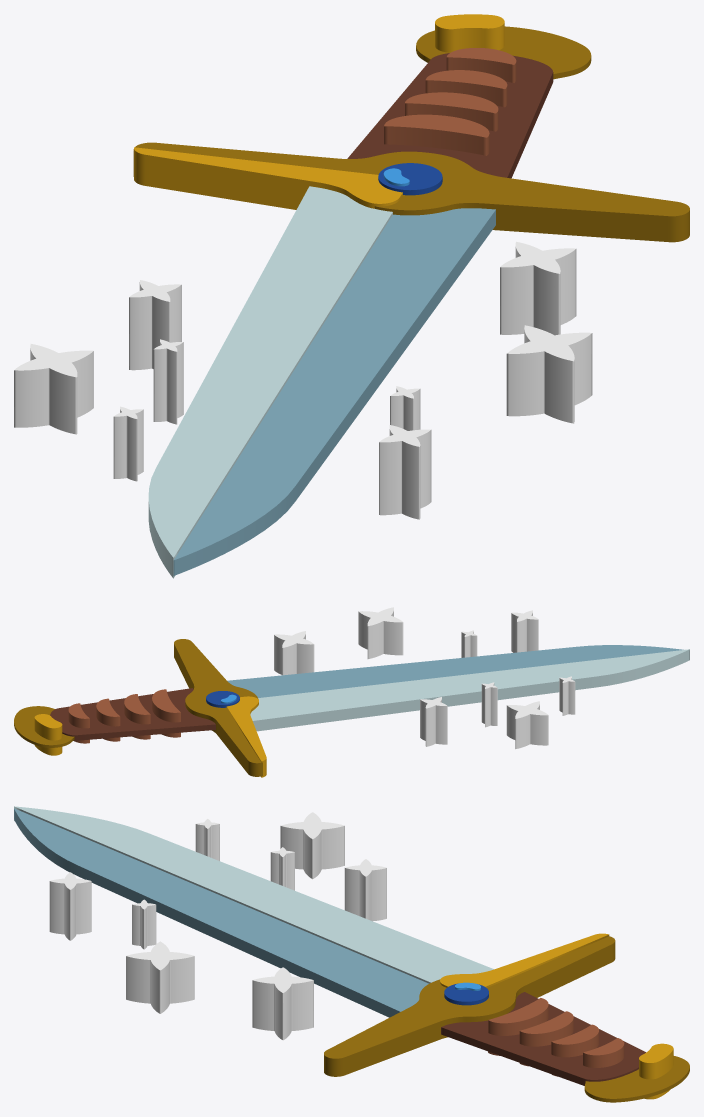
Rendered from emoji_u1f5e1.glb.
3 views of the same model, one above another, from view 1: azimuth 30°, elevation 25°; view 2: azimuth 150°, elevation 25°; view 3: azimuth 270°, elevation 25° (orthographic). The views are drawn at different scales.
Parts seen in each view (by area): view 1: emoji_u1f5e1; view 2: emoji_u1f5e1; view 3: emoji_u1f5e1.
Part boxes in pixels (left/top/right/bottom): emoji_u1f5e1: left=14, top=14, right=689, bottom=578; emoji_u1f5e1: left=14, top=607, right=689, bottom=777; emoji_u1f5e1: left=14, top=806, right=689, bottom=1102.
Size of the model in its own units: 0.0339 by 0.0028 by 0.0337.
